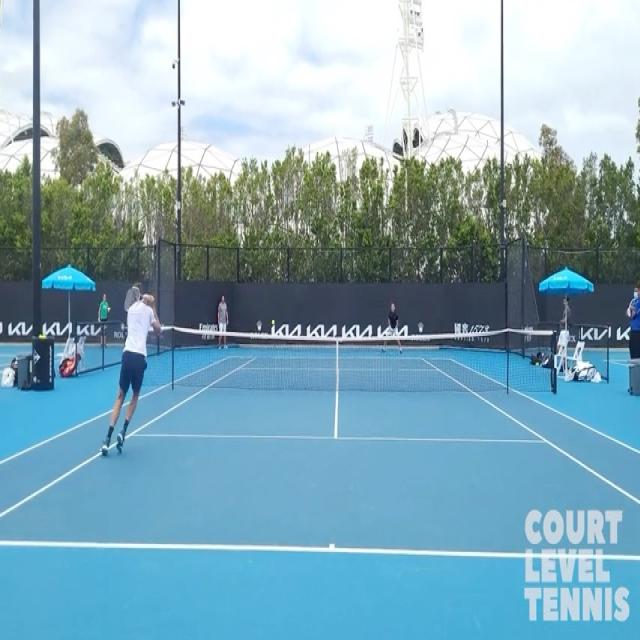backhand-finish: (99, 281, 159, 463)
